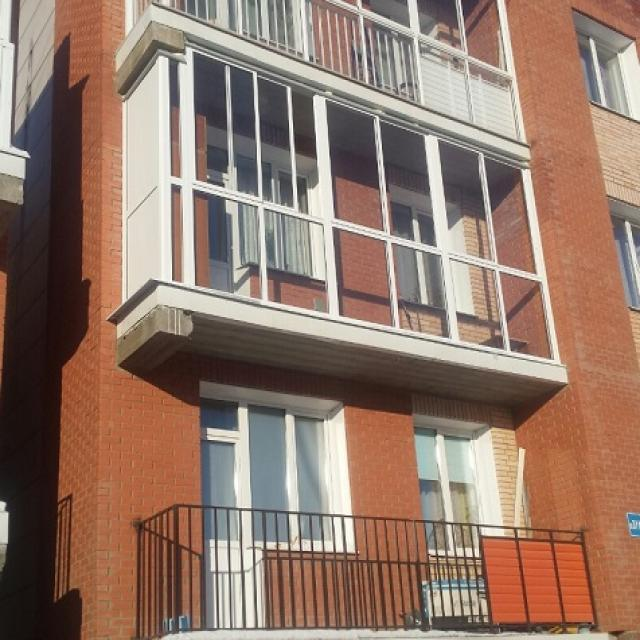Window: (211, 421, 327, 535), (218, 180, 306, 256), (426, 442, 473, 548), (398, 223, 457, 300), (204, 3, 294, 28), (380, 18, 436, 50), (624, 218, 638, 314), (592, 56, 622, 98)
